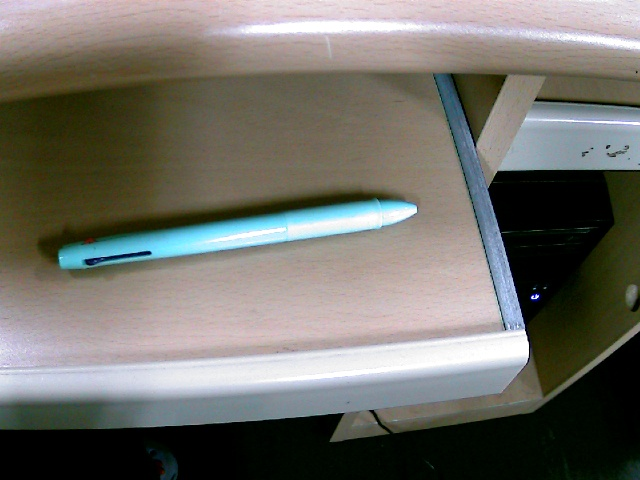pen: (47, 181, 435, 257)
